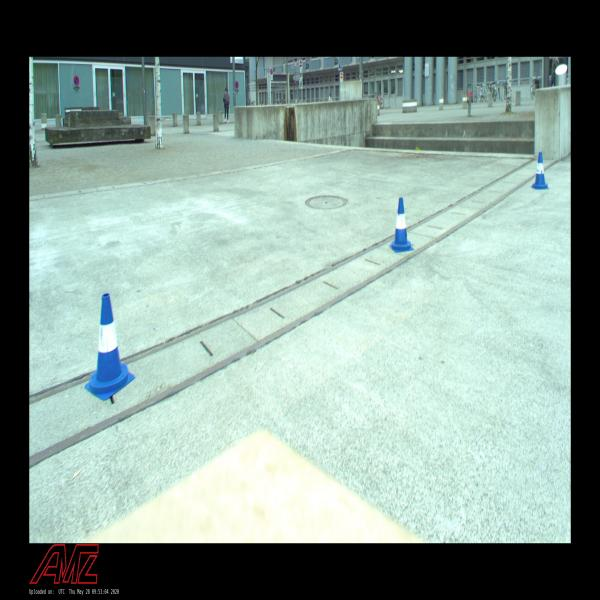blue_cone: (85, 292, 134, 399), (388, 197, 414, 253), (532, 152, 548, 189)
